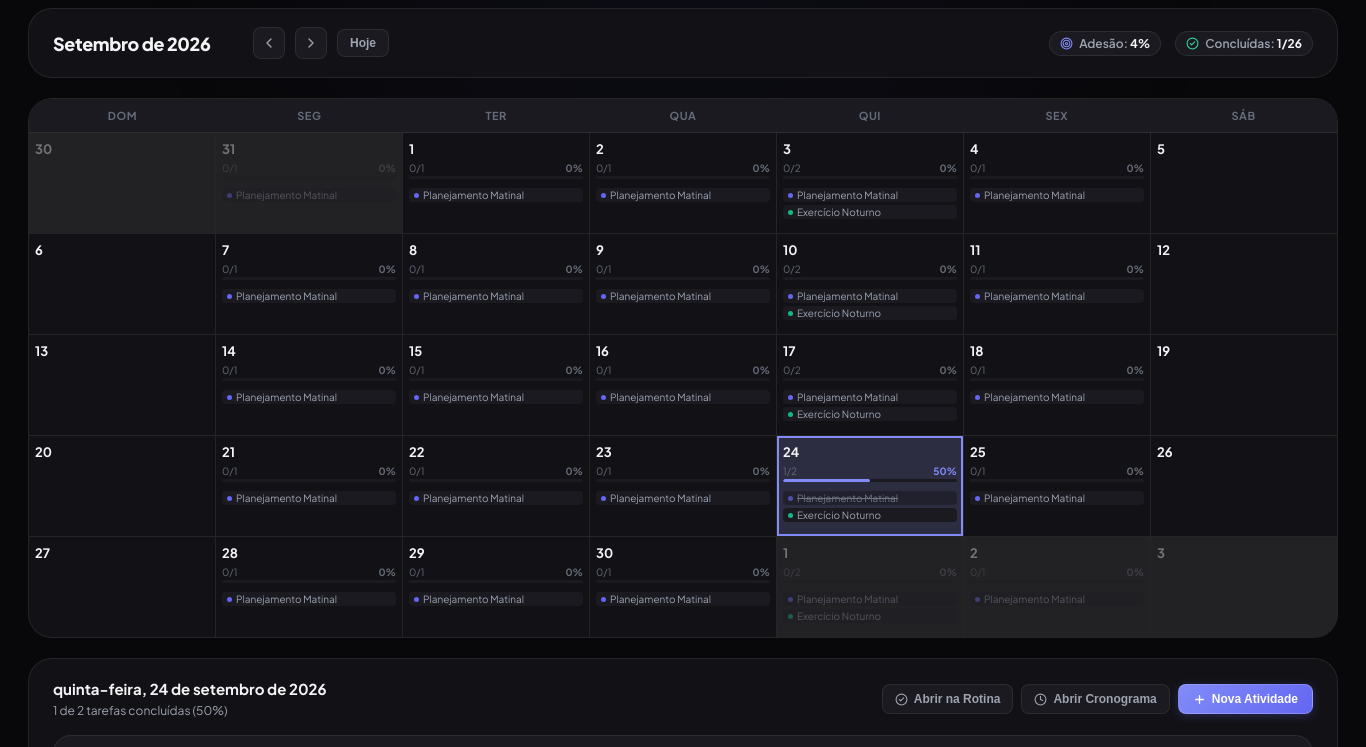
CalendarMonthView Component (Calendário Mensal) › deve navegar para o mês anterior e próximo ao clicar nos botões de navegação
The image size is (1366, 747).
Step 1. Click the button titled "Próximo mês" → (311, 43), box [295, 27, 327, 59]
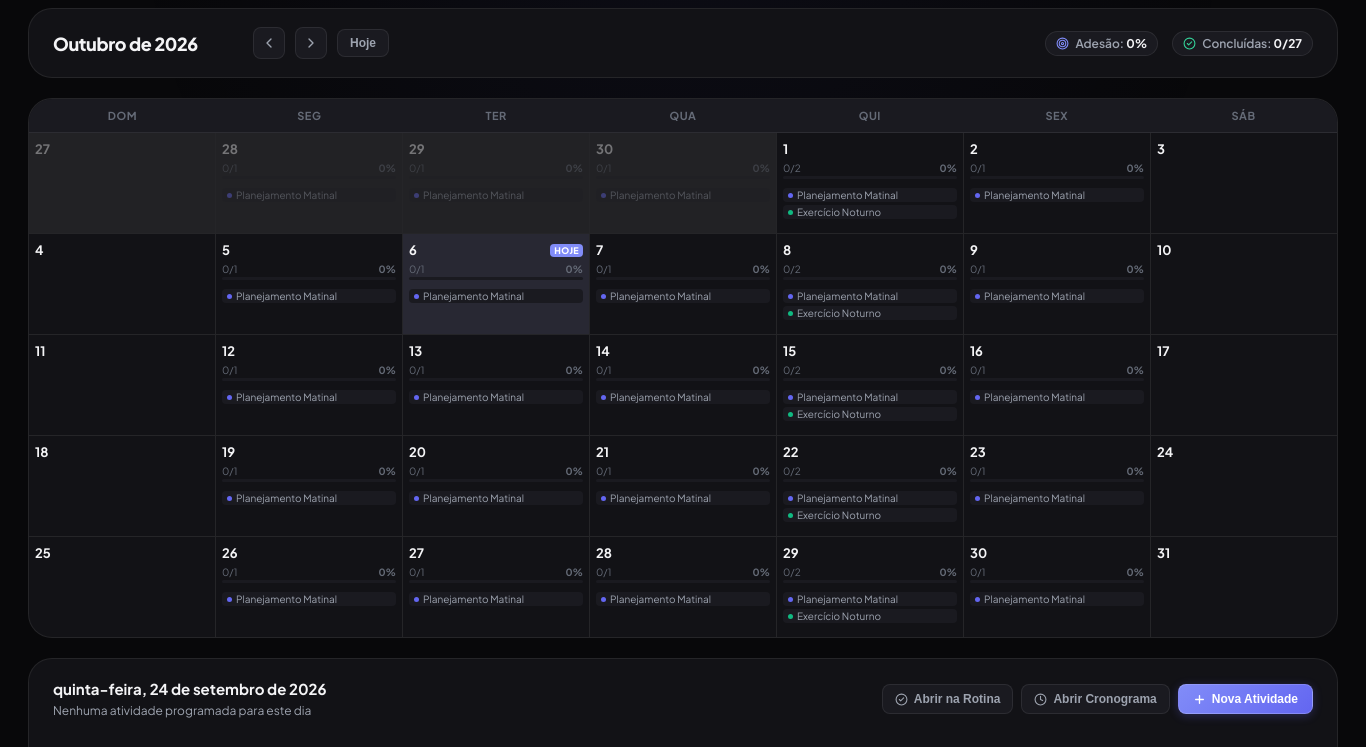
Result: the text "Outubro de 2026" is shown at [53, 32, 198, 54]
Step 2. Click the button titled "Mês anterior" → (269, 43), box [253, 27, 285, 59]
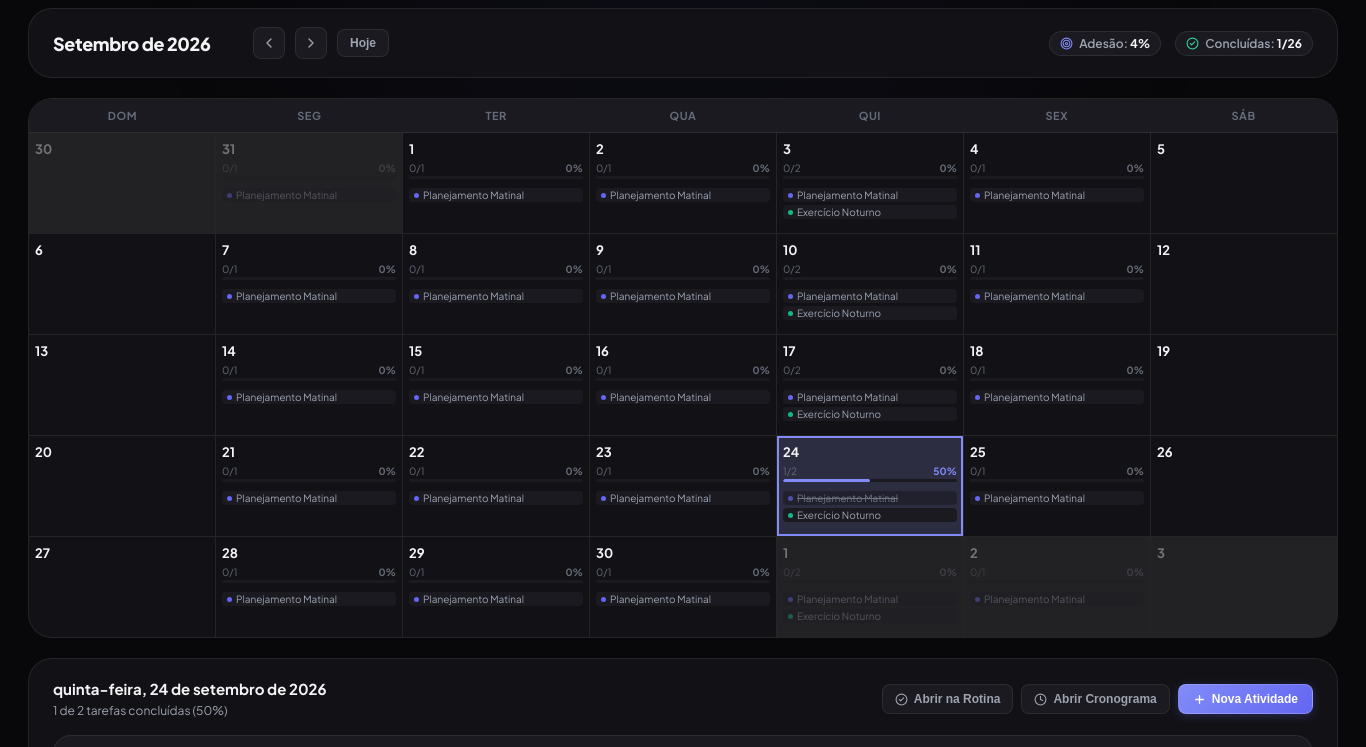
Result: the text "Setembro de 2026" is shown at [53, 32, 210, 54]
